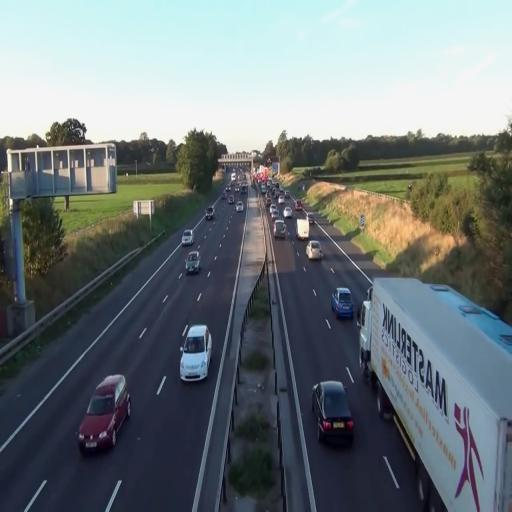vehicle: (362, 276, 512, 508), (77, 372, 131, 456), (312, 380, 354, 444), (180, 324, 212, 382), (331, 286, 354, 319), (186, 249, 201, 274), (307, 240, 323, 261), (273, 220, 287, 238), (181, 229, 194, 247), (205, 208, 214, 221)
